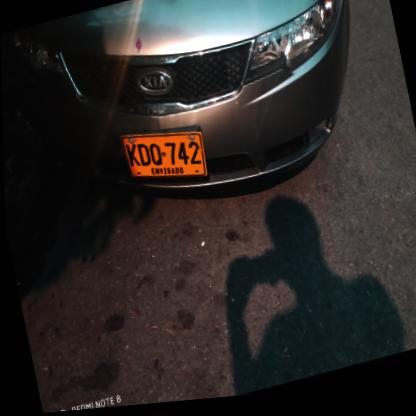placa: (115, 115, 211, 202)
